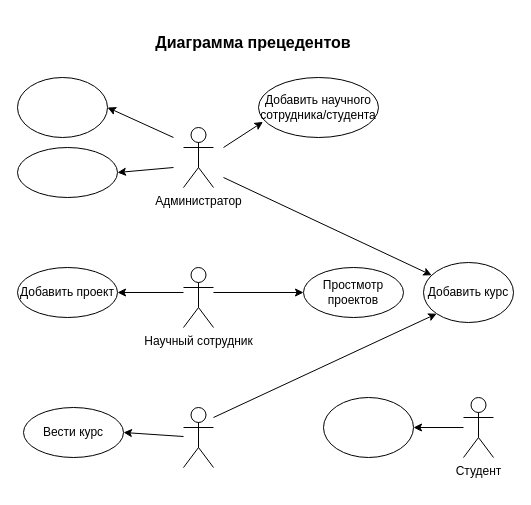
Image size: 531x505. Some labels were removed from this diagram. The centre of each missing label's shape, as x and y in pixels:
"Добавить кафедру" goes at point 67,172.
"Добавить факультет" goes at point 62,107.
"Записаться на курс" goes at point 368,427.
"Преподаватель" goes at point 198,437.
